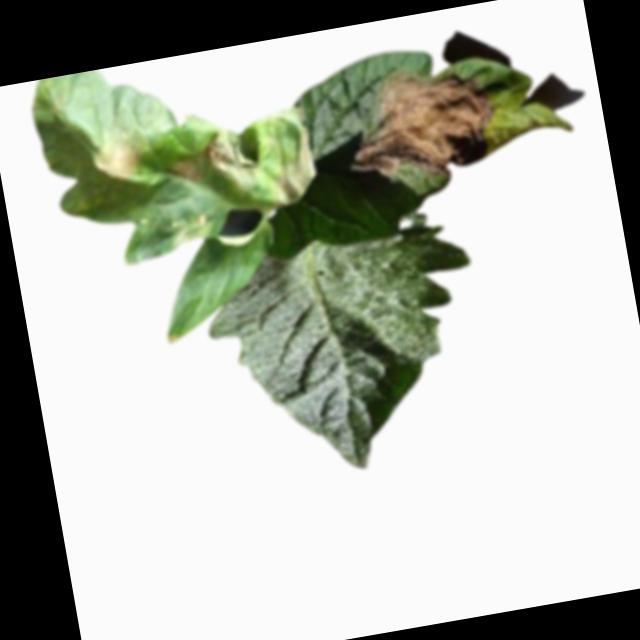Late_blight: (340, 57, 509, 193), (262, 120, 327, 210), (202, 129, 263, 200), (90, 131, 151, 191), (166, 210, 216, 249), (170, 155, 205, 189)
healthy: (197, 219, 505, 492)
